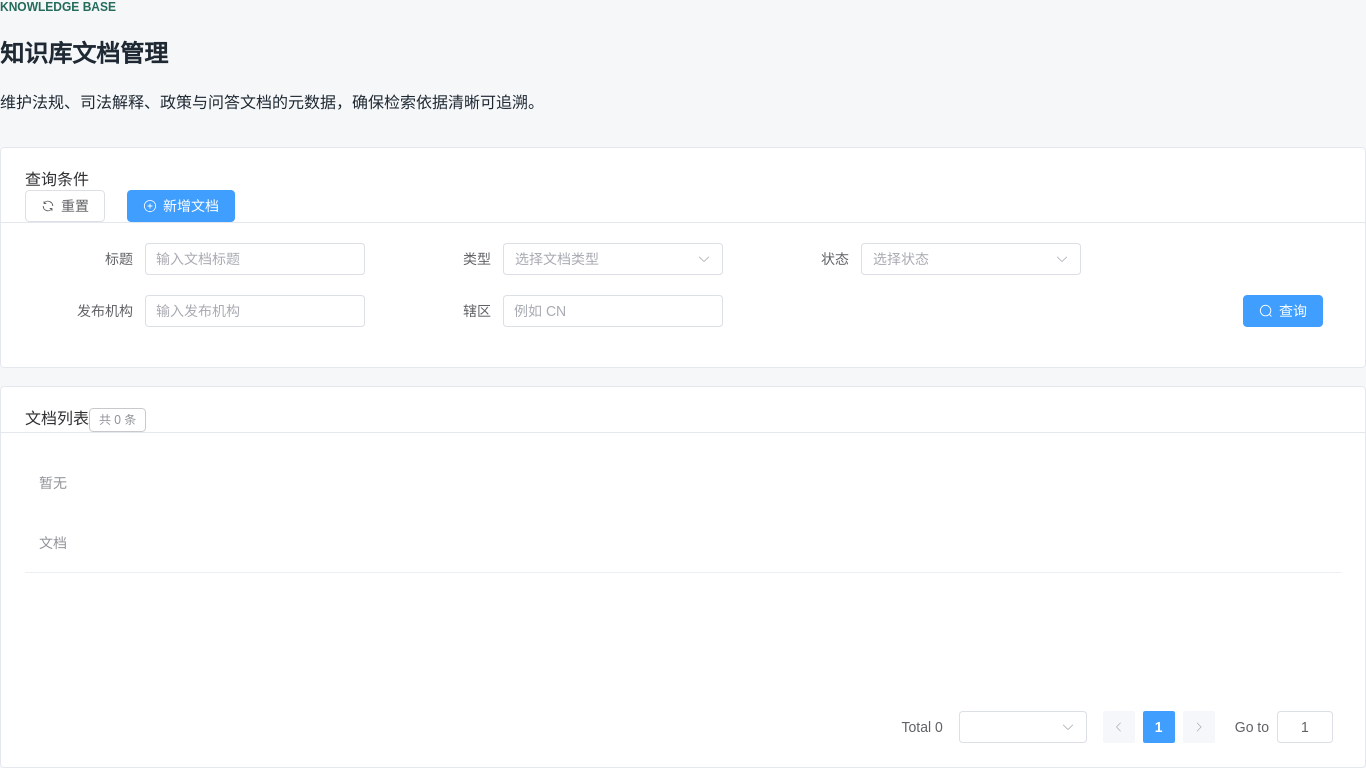
Test: KnowledgeDocsView › opens the create dialog and exposes all required fields
Click the button "新增文档".
click(181, 206)  # box top-left (127, 190), bottom-right (235, 222)
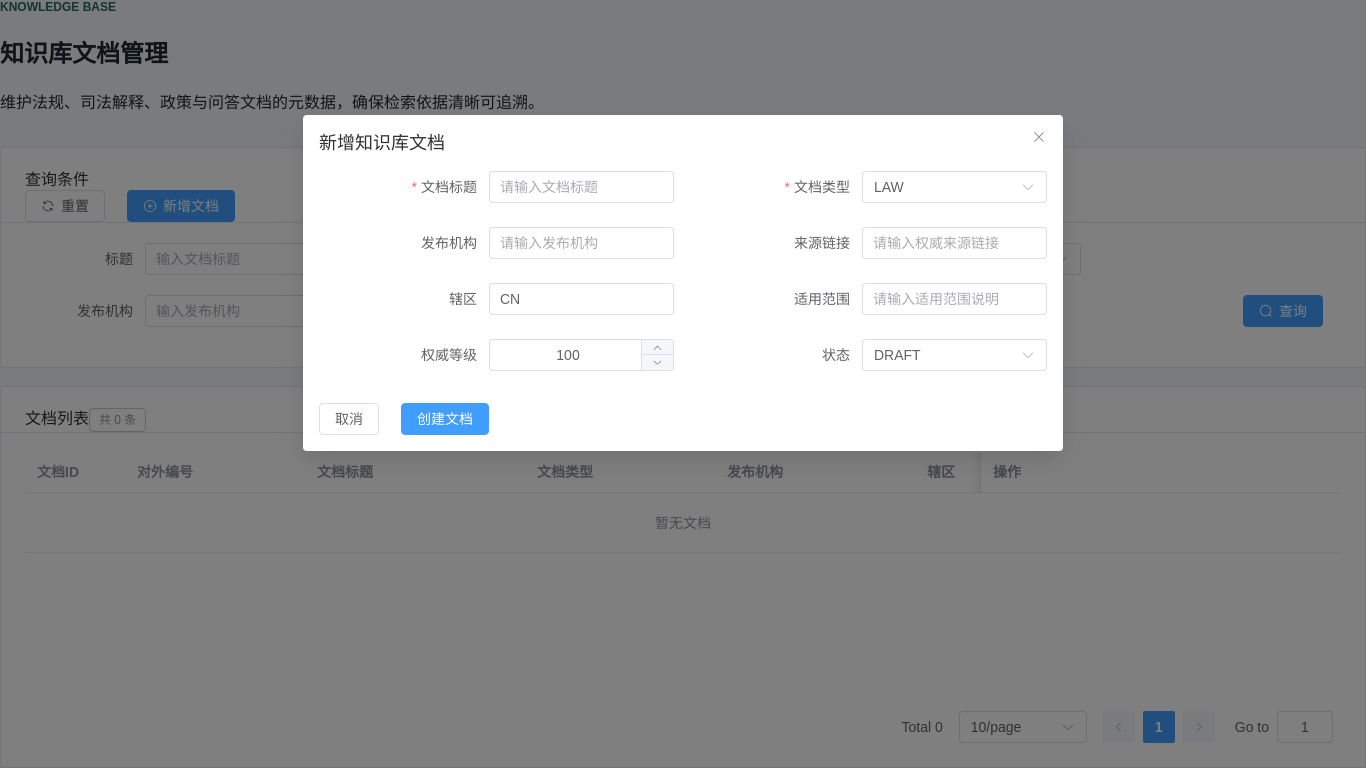
Now the text "新增知识库文档" is shown, box top-left (319, 133), bottom-right (445, 153)
Now the text "文档标题" is shown, box top-left (317, 464), bottom-right (373, 480)
Now the text "来源链接" is shown, box top-left (794, 235), bottom-right (850, 251)
